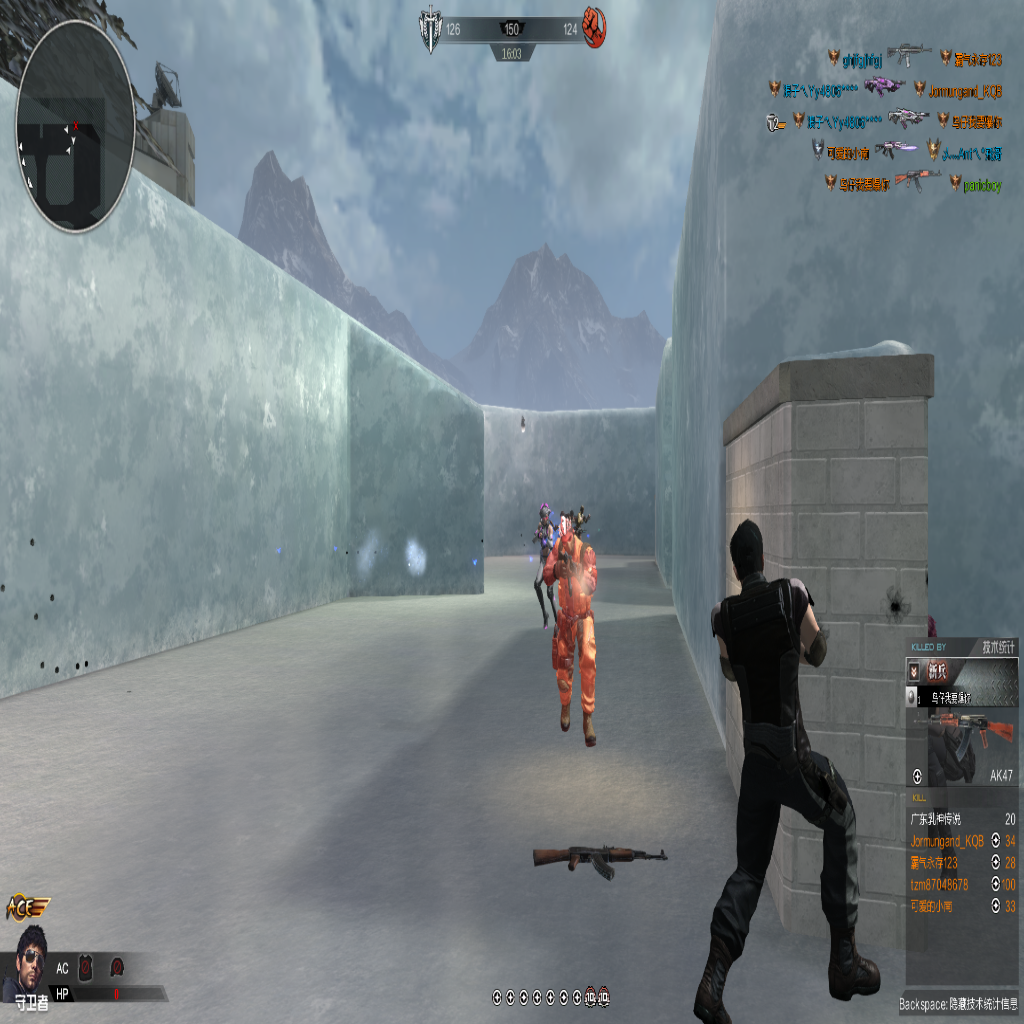tt: (541, 518, 599, 742), (532, 496, 554, 631)
